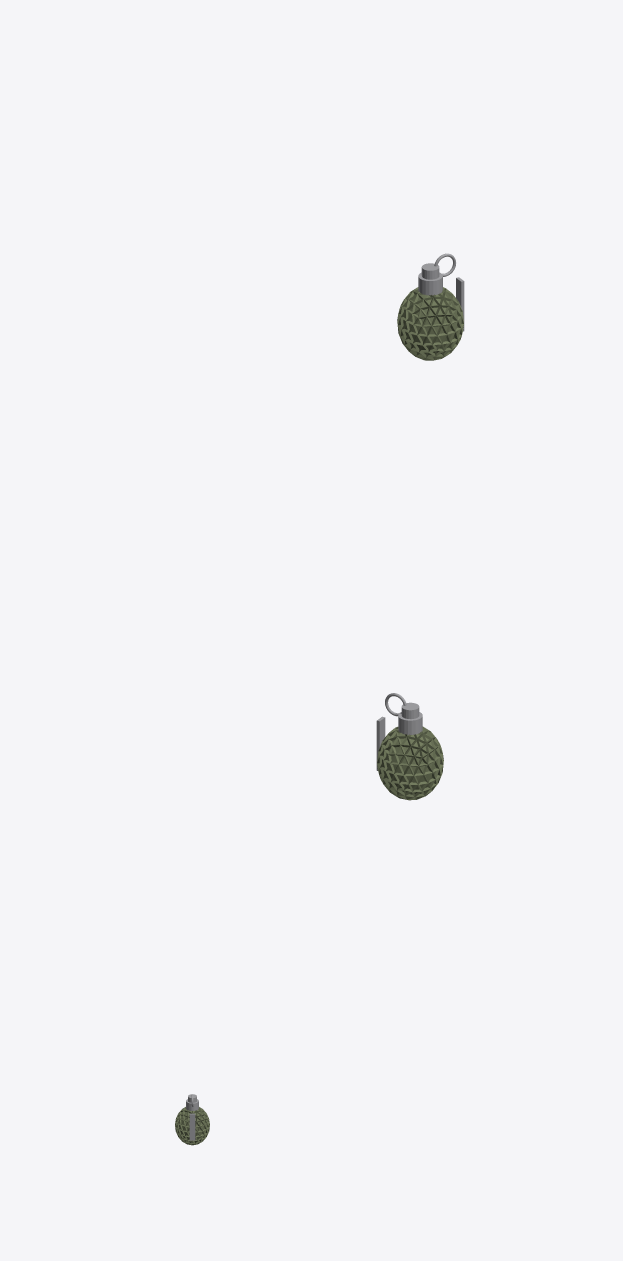
The model's file is guns.glb.
3 views of the same model, one above another, from view 1: azimuth 30°, elevation 25°; view 2: azimuth 150°, elevation 25°; view 3: azimuth 270°, elevation 25° (orthographic). The views are drawn at different scales.
Visible parts, largest first — view 1: frag_body; view 2: frag_body; view 3: frag_body.
Boxes of the visible parts, <box> form: frag_body: <box>397,253,464,360</box>; frag_body: <box>376,693,443,800</box>; frag_body: <box>175,1094,209,1145</box>.
Size of the model in its own units: 0.0725 by 0.3272 by 1.15.
